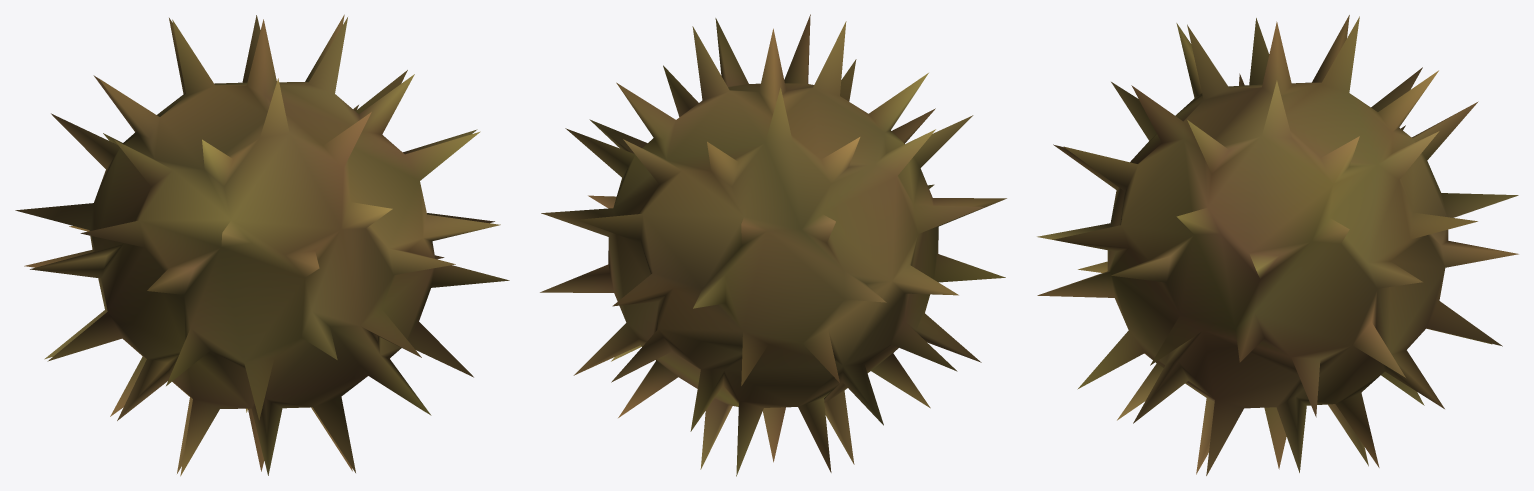
Rendered from microscopic-pollen-spores-spiny-pollen_v1.glb.
3 views of the same model, side by side, from view 1: azimuth 30°, elevation 25°; view 2: azimuth 150°, elevation 25°; view 3: azimuth 270°, elevation 25° (orthographic). The views are drawn at different scales.
Parts seen in each view (by area): view 1: Spiny Pollen; view 2: Spiny Pollen; view 3: Spiny Pollen.
Boxes of the visible parts, bbox=[...] form: Spiny Pollen: bbox=[15, 14, 509, 476]; Spiny Pollen: bbox=[540, 14, 1006, 476]; Spiny Pollen: bbox=[1037, 15, 1518, 475].
Bounding box in the file's own units: 0.2958 × 0.3 × 0.2923.
